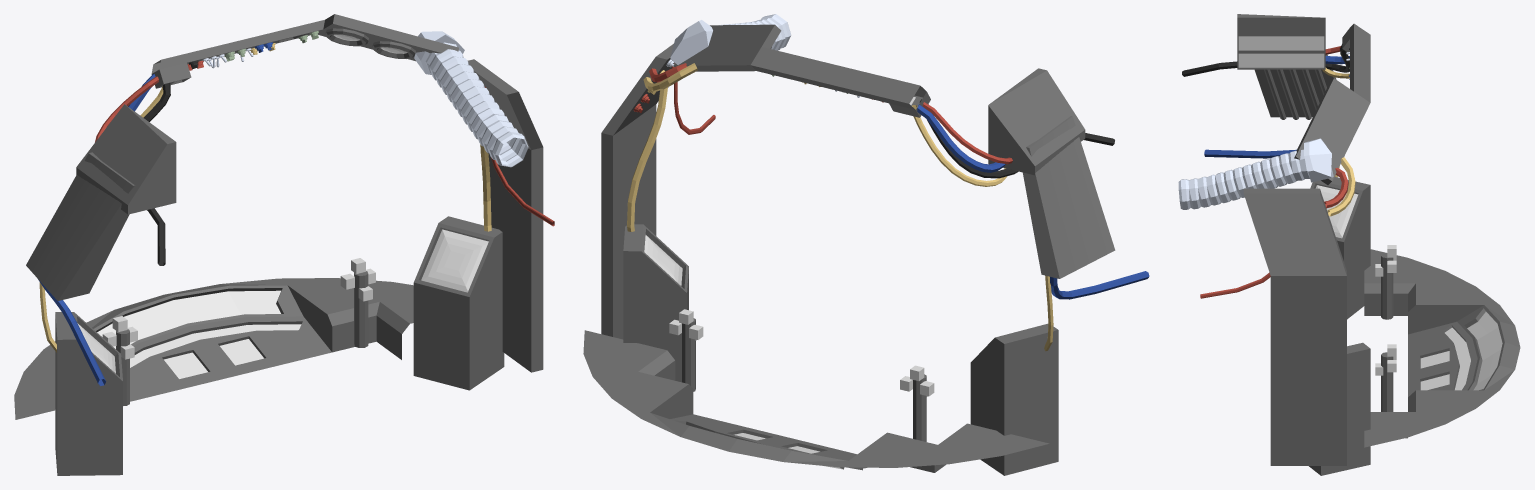
The model's file is SmallMechExport4_Interior.fbx.
3 views of the same model, side by side, from view 1: azimuth 30°, elevation 25°; view 2: azimuth 150°, elevation 25°; view 3: azimuth 270°, elevation 25° (orthographic). The views are drawn at different scales.
Parts seen in each view (by area): view 1: CockpitV2_EXPORT, MoveIndicatorRight, MoveIndicatorLeft; view 2: CockpitV2_EXPORT, MoveIndicatorRight, MoveIndicatorLeft; view 3: CockpitV2_EXPORT, MoveIndicatorLeft, MoveIndicatorRight.
Boxes of the visible parts, bbox=[...] form: CockpitV2_EXPORT: bbox=[14, 14, 554, 475]; MoveIndicatorRight: bbox=[340, 258, 375, 347]; MoveIndicatorLeft: bbox=[102, 316, 137, 405]; CockpitV2_EXPORT: bbox=[583, 14, 1149, 475]; MoveIndicatorRight: bbox=[669, 309, 703, 391]; MoveIndicatorLeft: bbox=[900, 365, 934, 441]; CockpitV2_EXPORT: bbox=[1178, 14, 1520, 475]; MoveIndicatorLeft: bbox=[1375, 245, 1396, 319]; MoveIndicatorRight: bbox=[1375, 344, 1396, 411].
Size of the model in its own units: 303 by 228 by 214.
